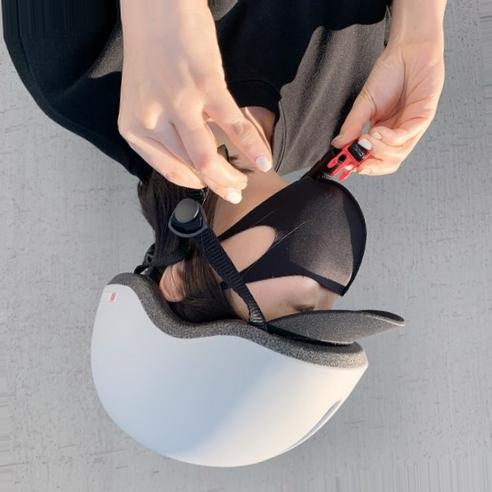with helmet: (88, 176, 405, 467)
